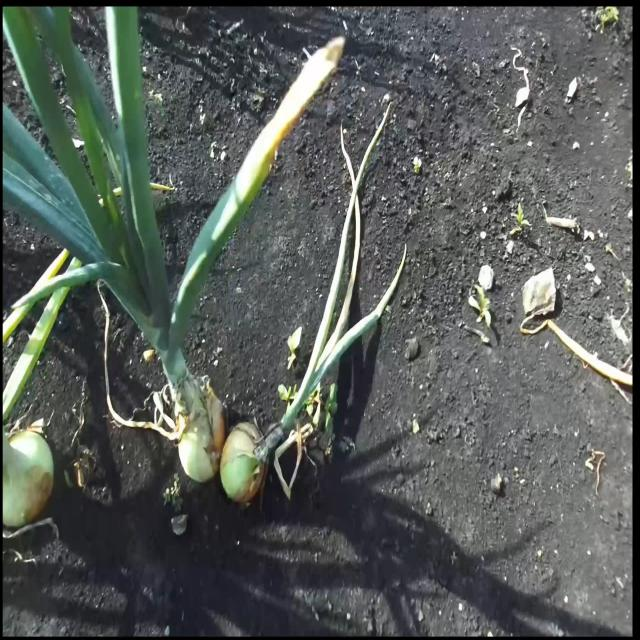onion: (2, 426, 54, 529), (176, 375, 225, 484), (220, 422, 268, 507)
